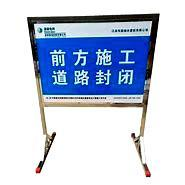sign: (35, 25, 144, 103)
